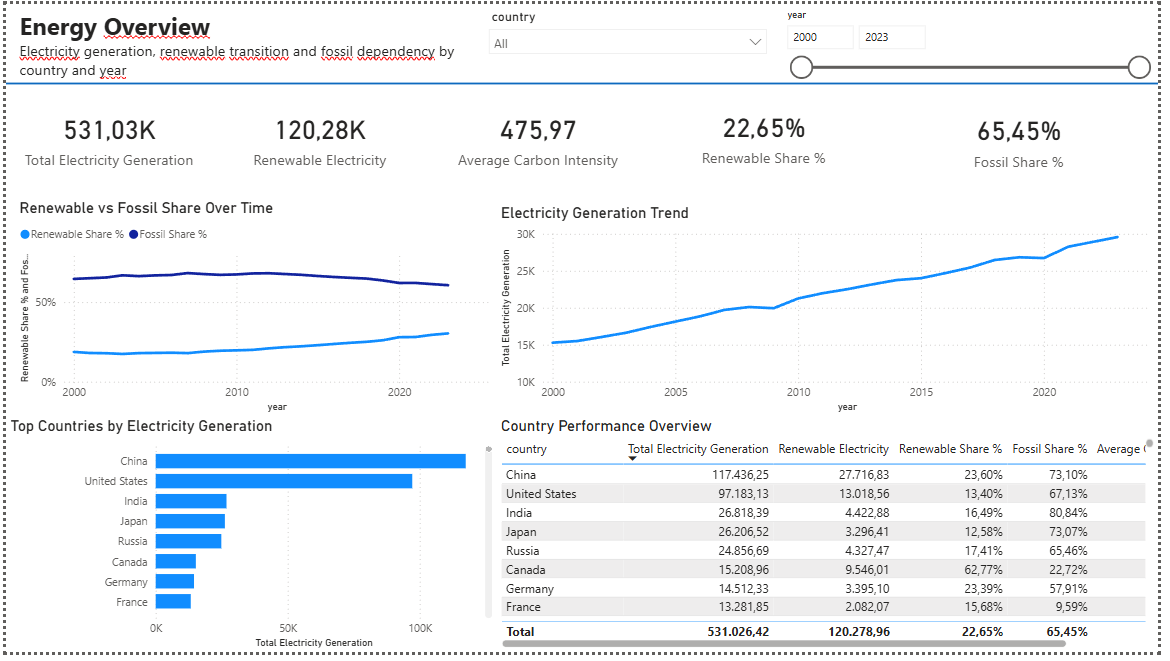

The dashboard page shown, as its layout file describes it:
{"tool":"powerbi","page":{"name":"Energy Overview","canvas":[1280,720],"ordinal":0},"visuals":[{"type":"textbox","box":[10,0,505,88.3],"z":0},{"type":"slicer","fields":{"Values":["Energy.country"]},"box":[526.7,0,328.3,88.3],"z":1},{"type":"slicer","fields":{"Values":["Energy.year"]},"box":[855,0,425,88.3],"z":2},{"type":"card","fields":{"Values":["Energy.Total Electricity Generation"]},"box":[0,88.3,228.3,120],"z":3},{"type":"card","fields":{"Values":["Energy.Renewable Share %"]},"box":[713.3,86.7,256.7,118.3],"z":4},{"type":"card","fields":{"Values":["Energy.Renewable Electricity"]},"box":[228.3,88.3,240,120],"z":5},{"type":"card","fields":{"Values":["Energy.Fossil Share %"]},"box":[970,88.3,310,123.3],"z":6},{"type":"card","fields":{"Values":["Energy.Average Carbon Intensity"]},"box":[468.3,88.3,245,120],"z":7},{"type":"lineChart","title":"Electricity Generation Trend","fields":{"Category":["Energy.year"],"Y":["Energy.Total Electricity Generation"]},"box":[545,221.7,735,236.7],"z":8},{"type":"lineChart","title":"Renewable vs Fossil Share Over Time","fields":{"Category":["Energy.year"],"Y":["Energy.Renewable Share %","Energy.Fossil Share %"]},"box":[10,216.7,535,241.7],"z":9},{"type":"clusteredBarChart","title":"Top Countries by Electricity Generation","fields":{"Category":["Energy.country"],"Y":["Energy.Total Electricity Generation"]},"box":[0,458.3,545,261.7],"z":10},{"type":"tableEx","title":"Country Performance Overview","fields":{"Values":["Energy.country","Energy.Total Electricity Generation","Energy.Renewable Electricity","Energy.Renewable Share %","Energy.Fossil Share %","Energy.Average Carbon Intensity"]},"box":[545,458.3,735,261.7],"z":11},{"type":"shape","box":[0,20,1280,136.7],"z":12}]}

Visuals, with their boxes in screenshot pixels (x1, y1, x2, y2), scaled from the page's 1280x720 canvas onto the 1170x661 screenshot:
textbox: 9 0 471 81
slicer - Energy.country: 481 0 782 81
slicer - Energy.year: 782 0 1169 81
card - Energy.Total Electricity Generation: 0 81 209 191
card - Energy.Renewable Share %: 652 80 887 188
card - Energy.Renewable Electricity: 209 81 428 191
card - Energy.Fossil Share %: 887 81 1169 194
card - Energy.Average Carbon Intensity: 428 81 652 191
"Electricity Generation Trend" lineChart: 498 204 1169 421
"Renewable vs Fossil Share Over Time" lineChart: 9 199 498 421
"Top Countries by Electricity Generation" clusteredBarChart: 0 421 498 660
"Country Performance Overview" tableEx: 498 421 1169 660
shape: 0 18 1169 144
